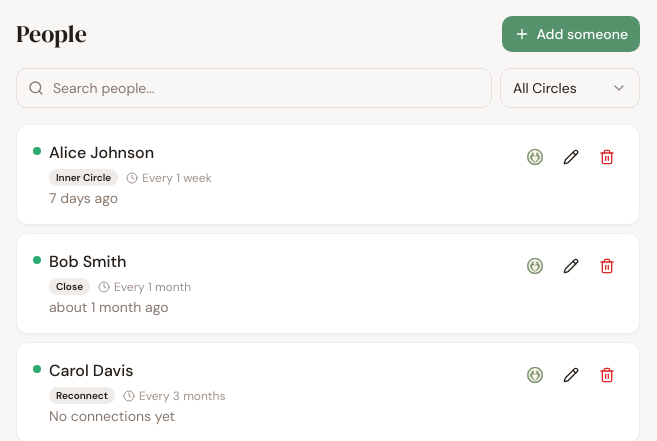
Test: People Page › shows 'No matches found' when search yields nothing
Type "zzzzz" into the field with placeholder "Search people..." at (254, 88), box left=16, top=68, right=492, bottom=108
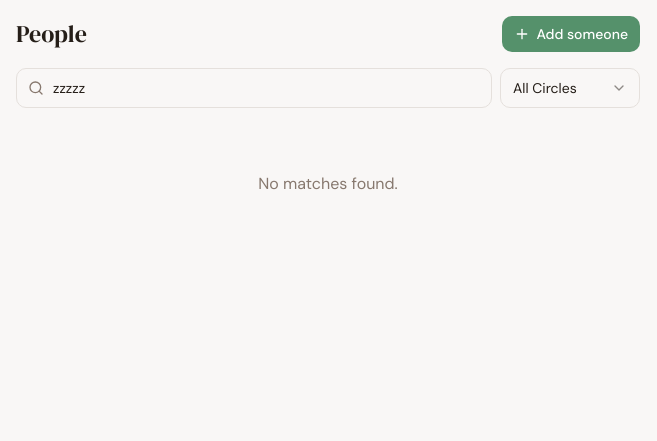
Expected: the text "No matches found." is shown, left=258, top=173, right=398, bottom=194
